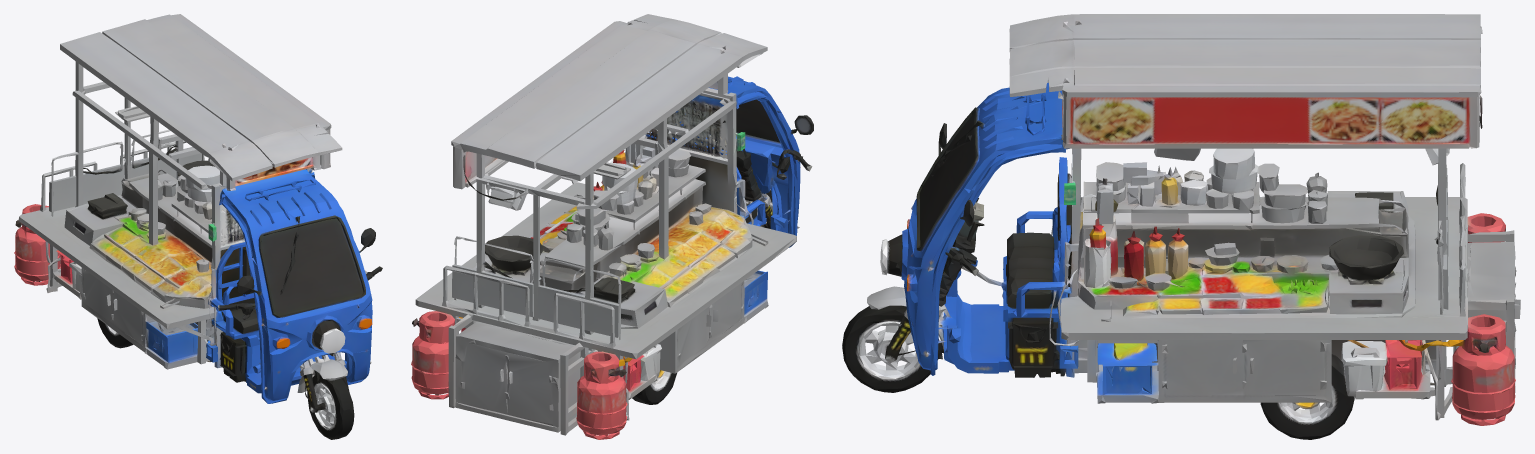
File: hyper3d-cart.glb
3 views of the same model, side by side, from view 1: azimuth 30°, elevation 25°; view 2: azimuth 150°, elevation 25°; view 3: azimuth 270°, elevation 25° (orthographic). The views are drawn at different scales.
Visible parts, largest first — view 1: Hyper3D_Cart_PBR; view 2: Hyper3D_Cart_PBR; view 3: Hyper3D_Cart_PBR.
Boxes of the visible parts, x1,y1,x2,y2 form: Hyper3D_Cart_PBR: (14,14,382,439); Hyper3D_Cart_PBR: (411,14,813,439); Hyper3D_Cart_PBR: (842,14,1520,439).
Bounding box in the file's own units: 2.01 × 2.41 × 4.2.
1 material, 1 textured.
